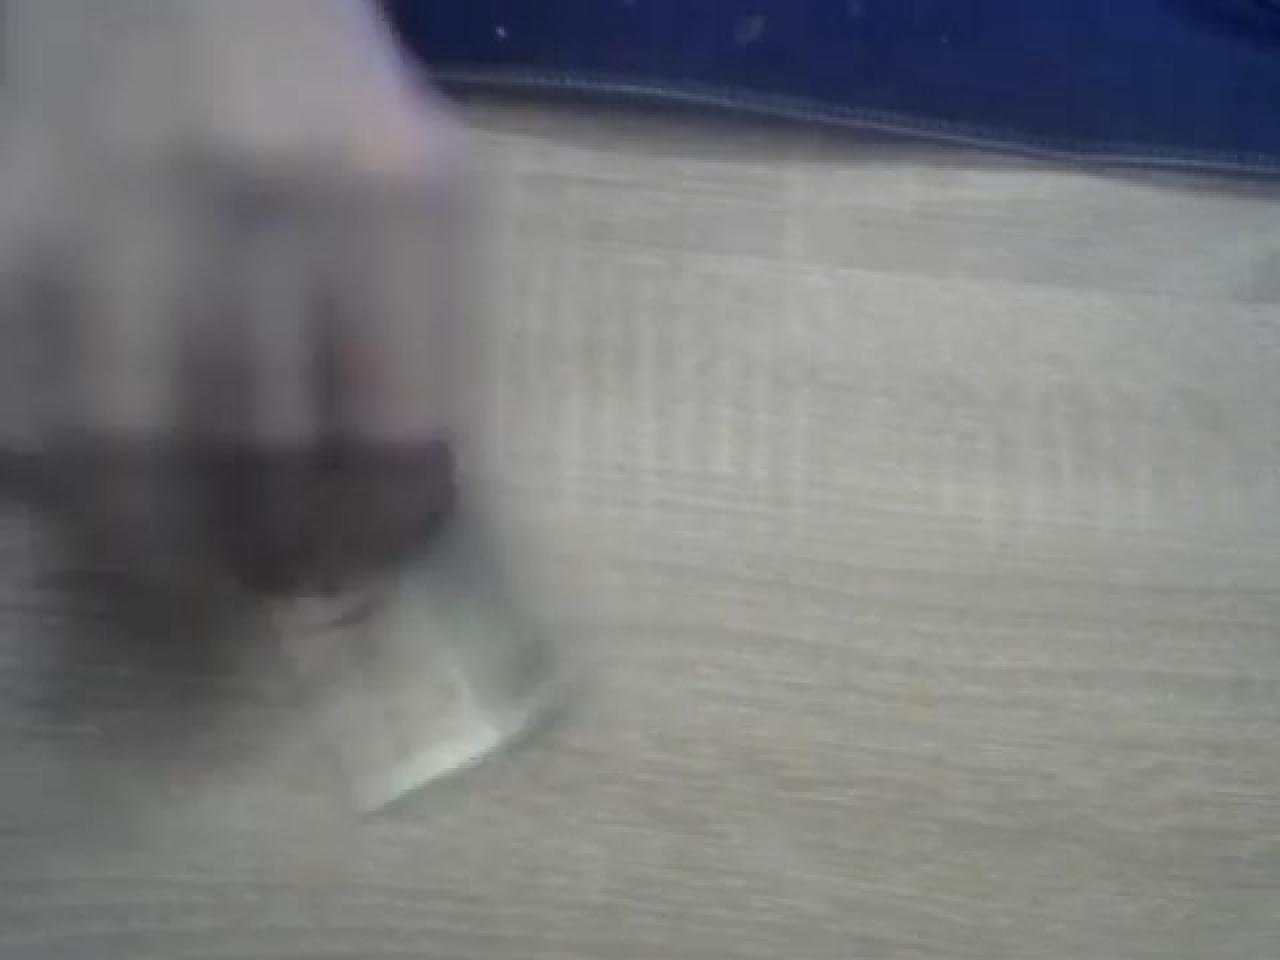10leva: (0, 0, 570, 824)
